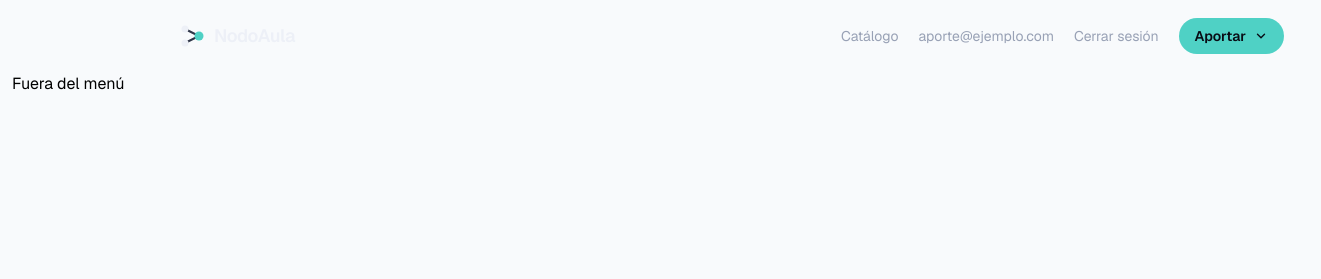
Test: SiteHeader › Escape lo cierra y devuelve el foco al botón
The width and height of the screenshot is (1321, 279).
Click the button "Aportar" at (1231,36), box top-left (1179, 18), bottom-right (1284, 54)
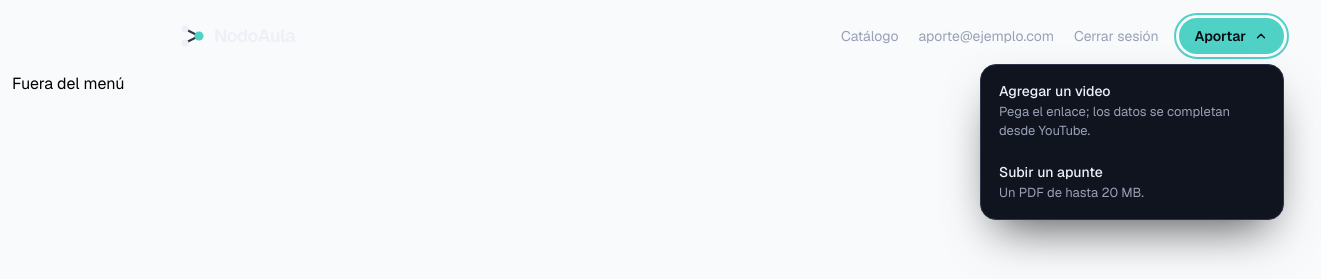
Press Escape
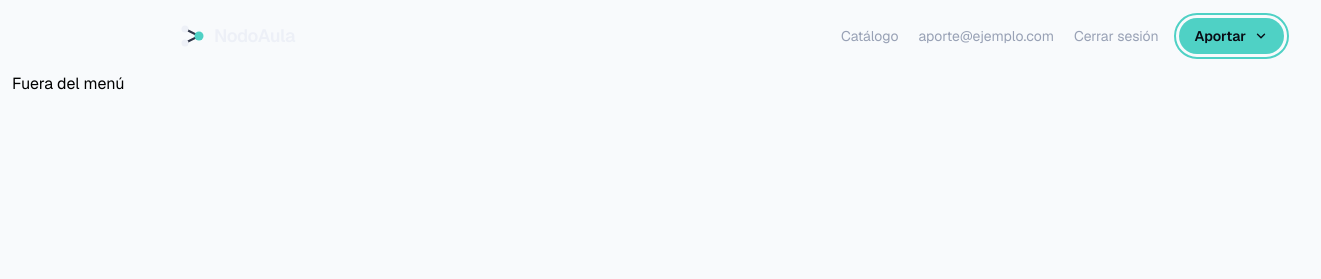
Result: the link "Subir un apunte" is gone
